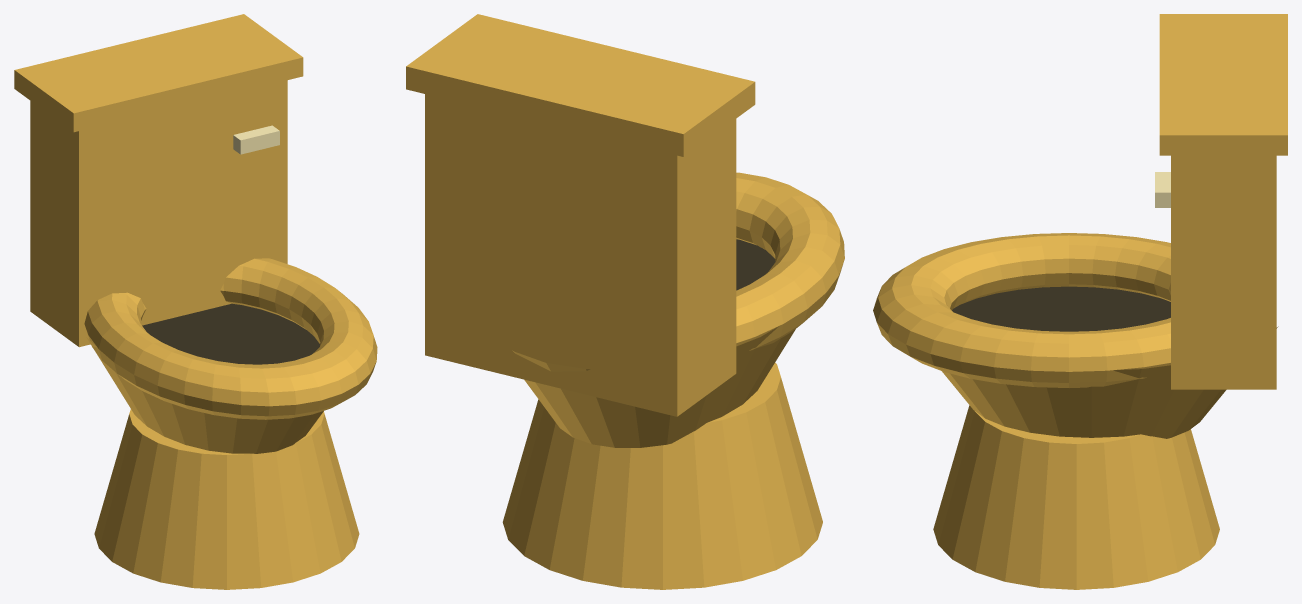
The model's file is golden-toilet.glb.
3 views of the same model, side by side, from view 1: azimuth 30°, elevation 25°; view 2: azimuth 150°, elevation 25°; view 3: azimuth 270°, elevation 25° (orthographic). The views are drawn at different scales.
Visible parts, largest first — view 1: golden-toilet, Toilet_Tank, Toilet_Bowl; view 2: golden-toilet, Toilet_Tank, Toilet_Bowl; view 3: golden-toilet, Toilet_Bowl, Toilet_Tank.
Boxes of the visible parts, x1,y1,x2,y2 form: golden-toilet: [14, 14, 359, 589]; Toilet_Tank: [30, 80, 287, 347]; Toilet_Bowl: [84, 258, 377, 419]; golden-toilet: [406, 14, 822, 589]; Toilet_Tank: [425, 94, 736, 416]; Toilet_Bowl: [736, 172, 844, 350]; golden-toilet: [933, 14, 1287, 589]; Toilet_Bowl: [873, 233, 1170, 387]; Toilet_Tank: [1171, 155, 1276, 389].
Size of the model in its own units: 0.77 by 1.33 by 1.1.
